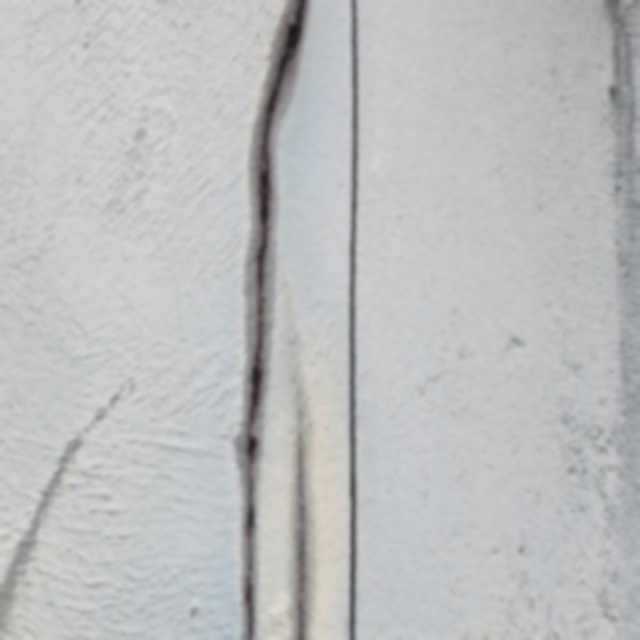SurfaceCrack: (188, 0, 349, 639), (569, 0, 640, 640)
